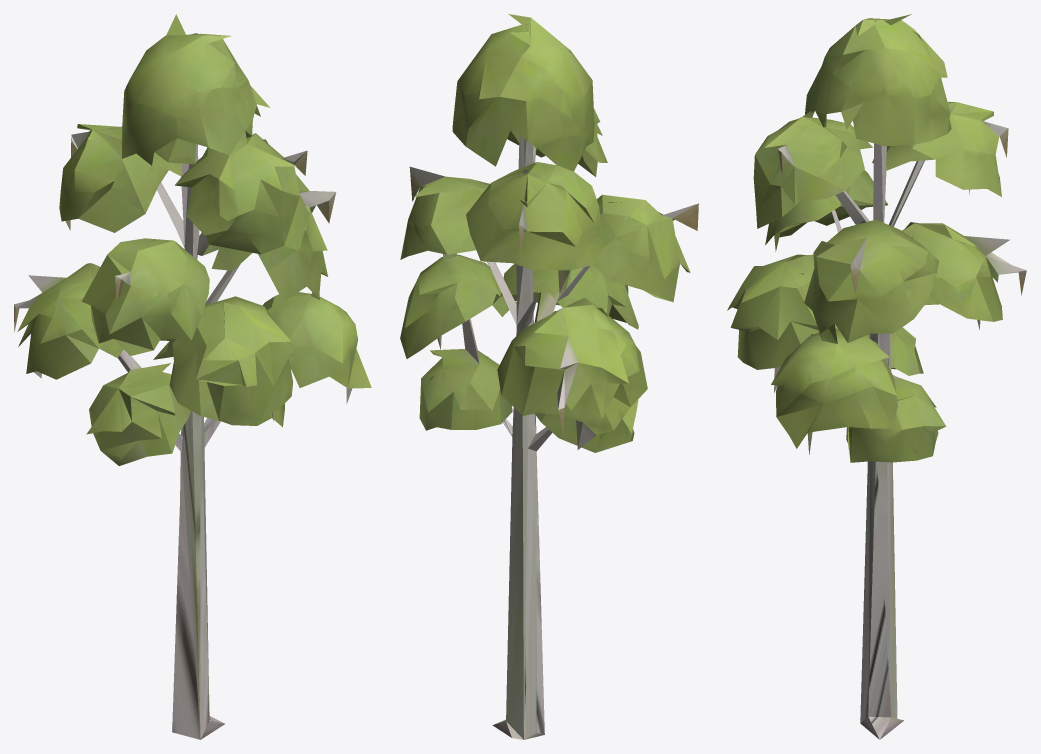
Rendered from bg_forest_birch_2_lod0.glb.
The picture shows the model from 3 angles, left to right: view 1: azimuth 30°, elevation 25°; view 2: azimuth 150°, elevation 25°; view 3: azimuth 270°, elevation 25°; orthographic projection.
Parts seen in each view (by area): view 1: sway, body; view 2: sway, body; view 3: sway, body.
Part boxes in pixels (left/top/right/bottom): sway: left=14, top=14, right=371, bottom=738; body: left=14, top=33, right=307, bottom=739; sway: left=400, top=14, right=690, bottom=452; body: left=487, top=140, right=698, bottom=739; sway: left=727, top=14, right=1026, bottom=462; body: left=778, top=21, right=1026, bottom=739.
Size of the model in its own units: 2.24 by 5.45 by 2.08.
1 material, 1 textured.
